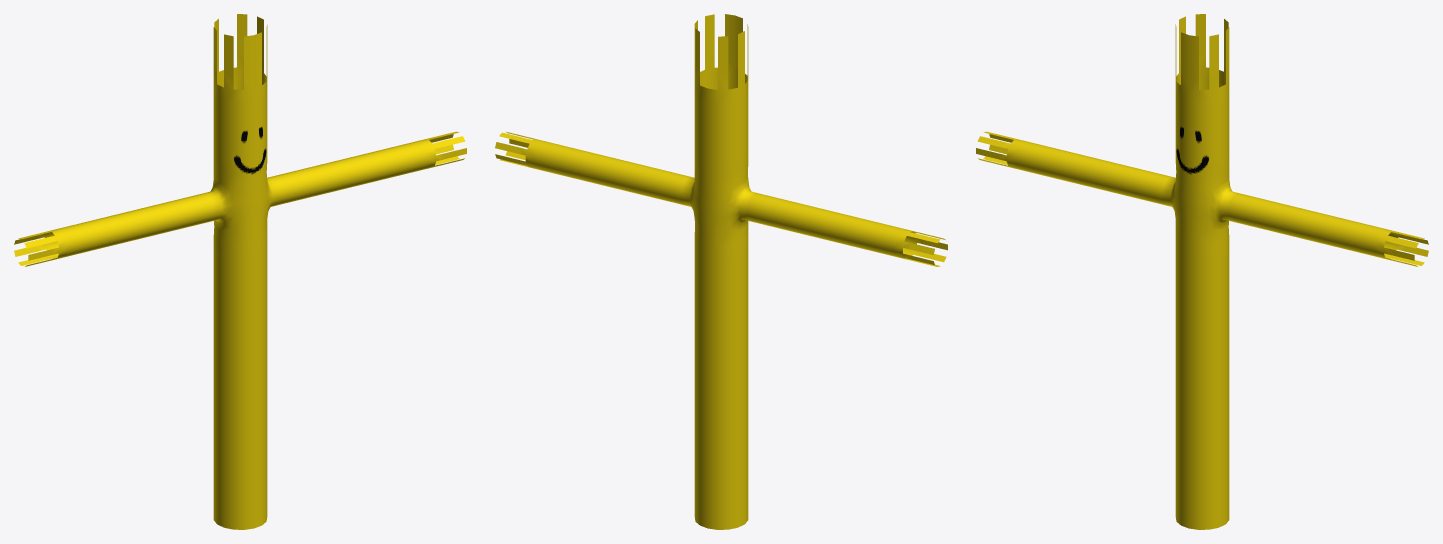
File: smiley.glb
3 renders of one model, left to right at view 1: azimuth 30°, elevation 25°; view 2: azimuth 150°, elevation 25°; view 3: azimuth 330°, elevation 25°, orthographic.
Parts seen in each view (by area): view 1: Smiley; view 2: Smiley; view 3: Smiley.
Boxes of the visible parts, x1,y1,x2,y2 form: Smiley: (14,14,466,529); Smiley: (495,14,947,529); Smiley: (976,14,1428,529).
Size of the model in its own units: 1.88 by 2.02 by 0.2.
Materials: 1 (1 with a texture image).
